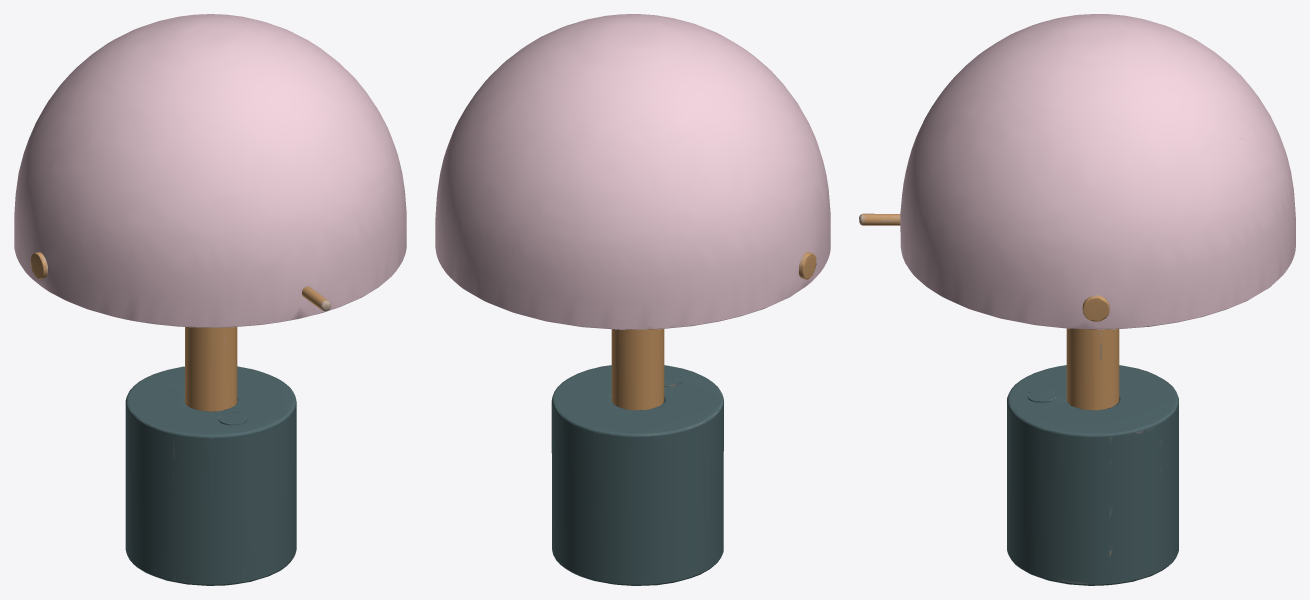
The model's file is noedmast_led_portable_lamp_battery_opera.glb.
The picture shows the model from 3 angles, left to right: view 1: azimuth 30°, elevation 25°; view 2: azimuth 150°, elevation 25°; view 3: azimuth 270°, elevation 25°; orthographic projection.
Visible parts, largest first — view 1: Mesh_0; view 2: Mesh_0; view 3: Mesh_0.
Boxes of the visible parts, left/top/right/bottom form: Mesh_0: left=14, top=14, right=406, bottom=585; Mesh_0: left=435, top=14, right=830, bottom=585; Mesh_0: left=859, top=14, right=1295, bottom=585.
Size of the model in its own units: 0.1839 by 0.2594 by 0.1978.
1 material, 1 textured.
